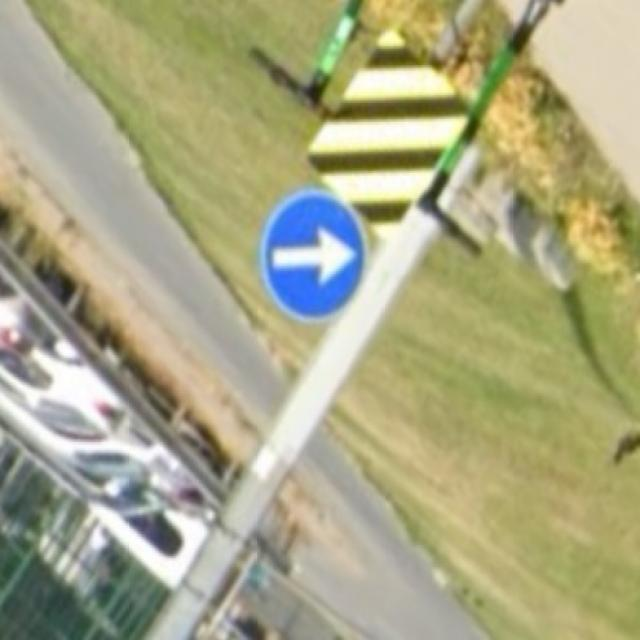Turn Right: (258, 183, 373, 324)
